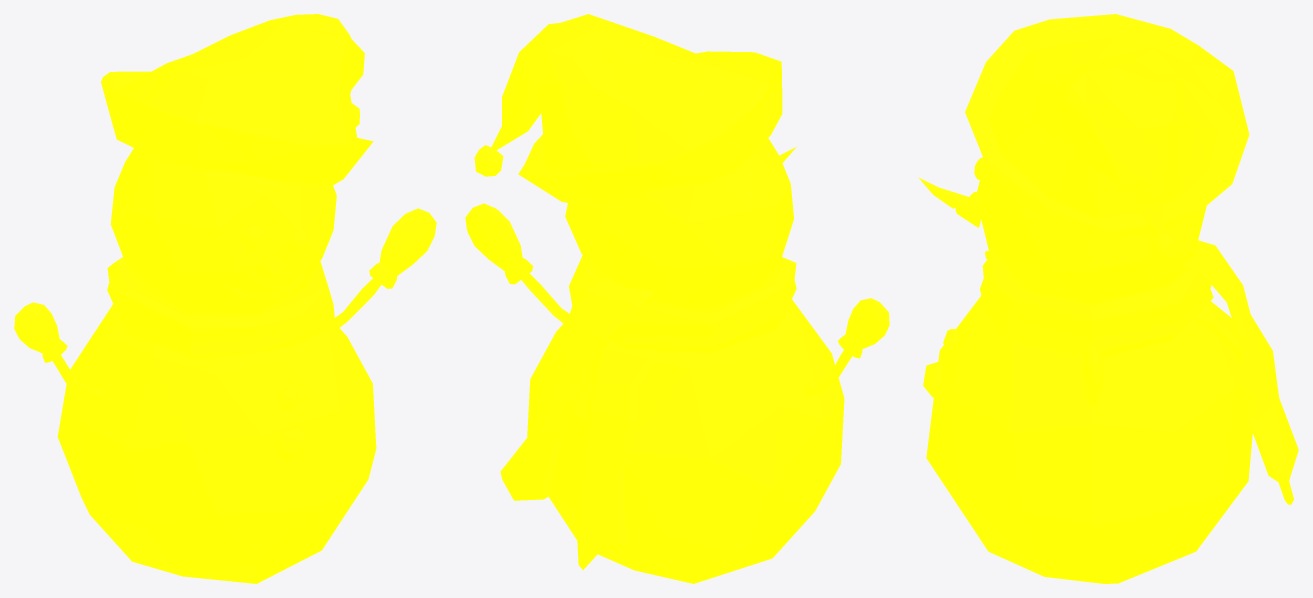
File: RW_Snowman02.glb
3 views of the same model, side by side, from view 1: azimuth 30°, elevation 25°; view 2: azimuth 150°, elevation 25°; view 3: azimuth 270°, elevation 25° (orthographic). The views are drawn at different scales.
Parts seen in each view (by area): view 1: RW_LP_CP_Character_SnowMan_002; view 2: RW_LP_CP_Character_SnowMan_002; view 3: RW_LP_CP_Character_SnowMan_002.
Boxes of the visible parts, x1,y1,x2,y2 form: RW_LP_CP_Character_SnowMan_002: [14, 14, 436, 583]; RW_LP_CP_Character_SnowMan_002: [465, 14, 889, 583]; RW_LP_CP_Character_SnowMan_002: [918, 14, 1298, 583].
Size of the model in its own units: 1.16 by 1.37 by 0.8683.
1 material, 1 textured.
